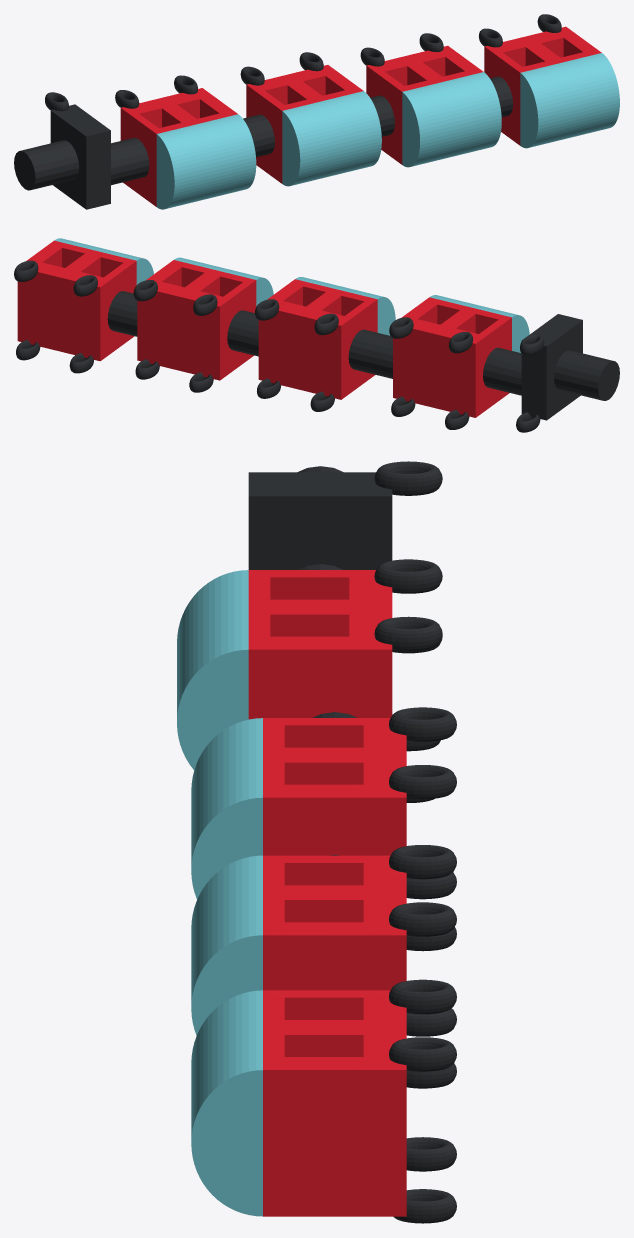
File: tinker.obj
The picture shows the model from 3 angles, top to bottom: view 1: azimuth 30°, elevation 25°; view 2: azimuth 150°, elevation 25°; view 3: azimuth 270°, elevation 25°; orthographic projection. The views are drawn at different scales.
Visible parts, largest first — view 1: group_0_7720667, group_0_15277357, group_0_2829873; view 2: group_0_15277357, group_0_2829873, group_0_7720667; view 3: group_0_15277357, group_0_7720667, group_0_2829873.
Boxes of the visible parts, x1=… form: group_0_7720667: x1=156, y1=53, x2=619, y2=209; group_0_15277357: x1=120, y1=26, x2=601, y2=206; group_0_2829873: x1=14, y1=14, x2=561, y2=209; group_0_15277357: x1=17, y1=240, x2=511, y2=417; group_0_2829873: x1=14, y1=260, x2=619, y2=432; group_0_7720667: x1=54, y1=238, x2=529, y2=352; group_0_15277357: x1=248, y1=570, x2=406, y2=1216; group_0_7720667: x1=177, y1=570, x2=262, y2=1216; group_0_2829873: x1=248, y1=461, x2=456, y2=1223.
Size of the model in its own units: 181 by 41 by 39.
